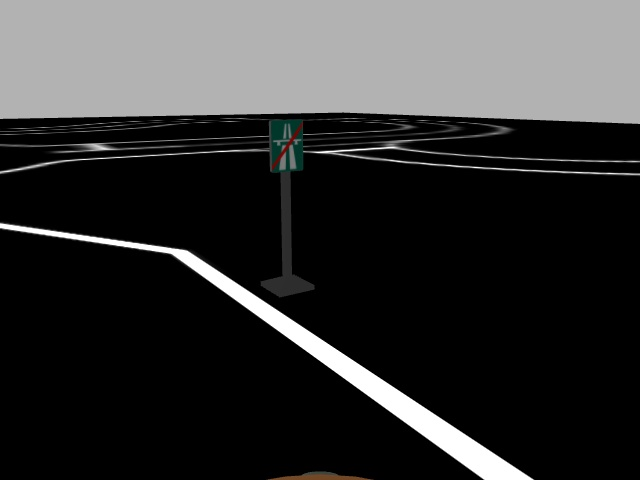leave_highway: (265, 117, 307, 172)
